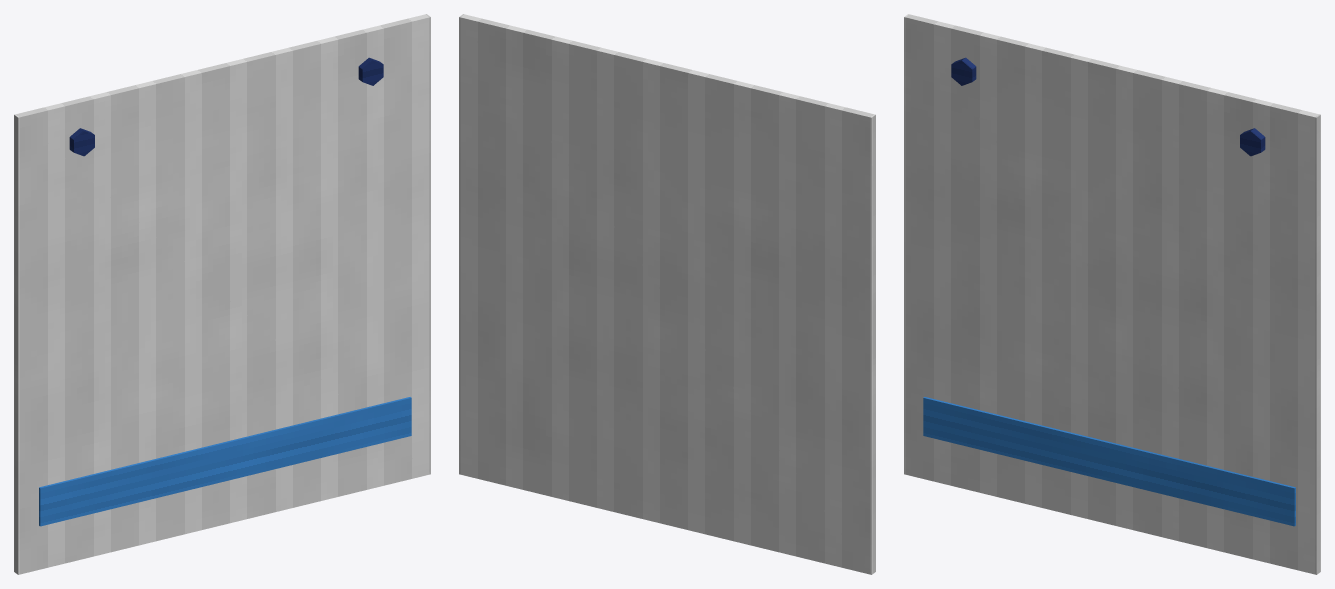
Rendered from para_barro_n2.glb.
3 renders of one model, left to right at view 1: azimuth 30°, elevation 25°; view 2: azimuth 150°, elevation 25°; view 3: azimuth 330°, elevation 25°, orthographic.
Visible parts, largest first — view 1: para_barro_n2; view 2: para_barro_n2; view 3: para_barro_n2.
Part boxes in pixels (x1,y1,x2,y2): para_barro_n2: (14, 14, 430, 574); para_barro_n2: (459, 14, 875, 574); para_barro_n2: (904, 14, 1320, 574).
Bounding box in the file's own units: 0.34 × 0.36 × 0.012.
Materials: 2 (2 with a texture image).
